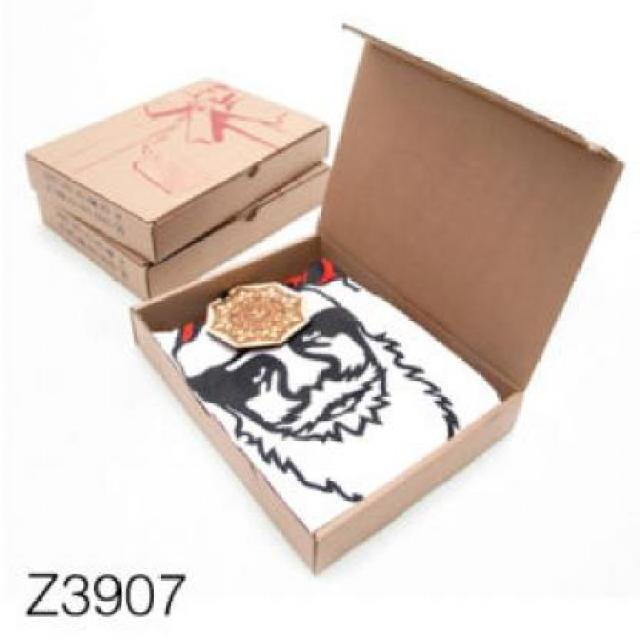box: (24, 79, 332, 264), (39, 160, 328, 298)
